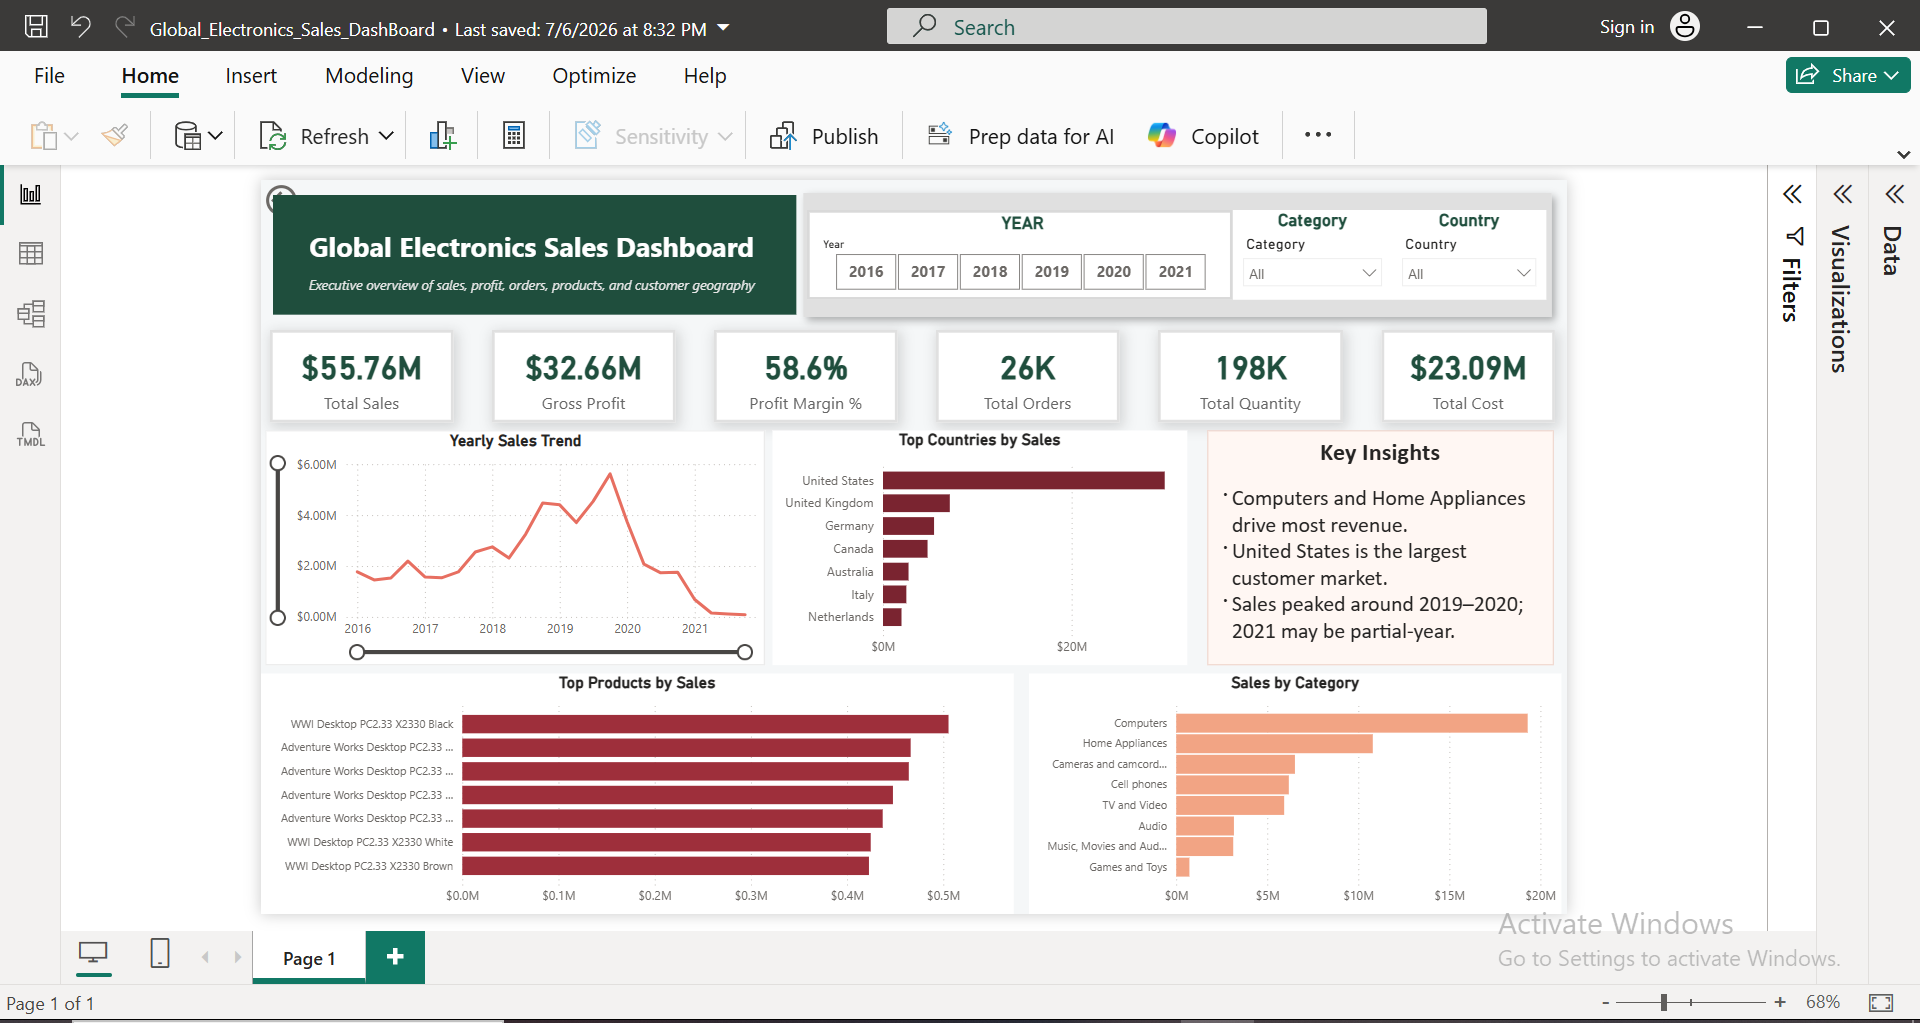

This screenshot's page, from the dashboard's own definition file:
{"tool":"powerbi","page":{"name":"Page 1","canvas":[1280,720],"ordinal":0},"visuals":[{"type":"card","fields":{"Values":["Sales.Total Quantity"]},"box":[903.3,63.3,180,90],"z":0},{"type":"card","fields":{"Values":["Sales.Total Sales"]},"box":[0,63.3,180,90],"z":1000},{"type":"card","fields":{"Values":["Sales.Total Orders"]},"box":[710,63.3,180,90],"z":2000},{"type":"actionButton","box":[0,0,100,40],"z":3000},{"type":"card","fields":{"Values":["Sales.Gross Profit"]},"box":[231.7,63.3,180,90],"z":4000},{"type":"card","fields":{"Values":["Sales.Profit Margin %"]},"box":[470,63.3,180,90],"z":5000},{"type":"card","fields":{"Values":["Sales.Total Cost"]},"box":[1095,63.3,180,90],"z":6000},{"type":"lineChart","title":"Yearly Sales Trend","fields":{"Y":["Sales.Total Sales"],"Category":["Sales.Order Date.Variation.Date Hierarchy.Year","Sales.Order Date.Variation.Date Hierarchy.Quarter"]},"box":[0,255,526.7,230],"z":7000},{"type":"clusteredBarChart","title":"Sales by Category","fields":{"Category":["Products.Category"],"Y":["Sales.Total Sales"]},"box":[710,475,565,245],"z":8000},{"type":"clusteredBarChart","title":"Top Products by Sales","fields":{"Category":["Products.Product Name"],"Y":["Sales.Total Sales"]},"box":[0,485,710,235],"z":9000},{"type":"clusteredBarChart","title":"Top Customer Countries by Sales","fields":{"Y":["Sales.Total Sales"],"Category":["Customers.Country"]},"box":[526.7,240,416.7,235],"z":10000},{"type":"slicer","title":"Year","fields":{"Values":["Sales.Order Date.Variation.Date Hierarchy.Year"]},"box":[0,166.7,488.3,58.3],"z":11000},{"type":"slicer","title":"Category","fields":{"Values":["Products.Category"]},"box":[526.7,153.3,366.7,86.7],"z":12000},{"type":"slicer","title":"Customer Country","fields":{"Values":["Customers.Country"]},"box":[910,153.3,370,73.3],"z":13000},{"type":"textbox","box":[355,0,588.3,60],"z":14000},{"type":"textbox","box":[50,40,1200,38.3],"z":15000},{"type":"textbox","box":[943.3,240,336.7,220],"z":16000}]}

Visuals, with their boxes on the page's 1280x720 design canvas (x1, y1, x2, y2). These are canvas units, not pixel positions in the 1920x1023 screenshot, which may show the page scaled, cropped or inside an application window:
card - Sales.Total Quantity: box(903, 63, 1083, 153)
card - Sales.Total Sales: box(0, 63, 180, 153)
card - Sales.Total Orders: box(710, 63, 890, 153)
actionButton: box(0, 0, 100, 40)
card - Sales.Gross Profit: box(232, 63, 412, 153)
card - Sales.Profit Margin %: box(470, 63, 650, 153)
card - Sales.Total Cost: box(1095, 63, 1275, 153)
"Yearly Sales Trend" lineChart: box(0, 255, 527, 485)
"Sales by Category" clusteredBarChart: box(710, 475, 1275, 720)
"Top Products by Sales" clusteredBarChart: box(0, 485, 710, 720)
"Top Customer Countries by Sales" clusteredBarChart: box(527, 240, 943, 475)
"Year" slicer: box(0, 167, 488, 225)
"Category" slicer: box(527, 153, 893, 240)
"Customer Country" slicer: box(910, 153, 1280, 227)
textbox: box(355, 0, 943, 60)
textbox: box(50, 40, 1250, 78)
textbox: box(943, 240, 1280, 460)
